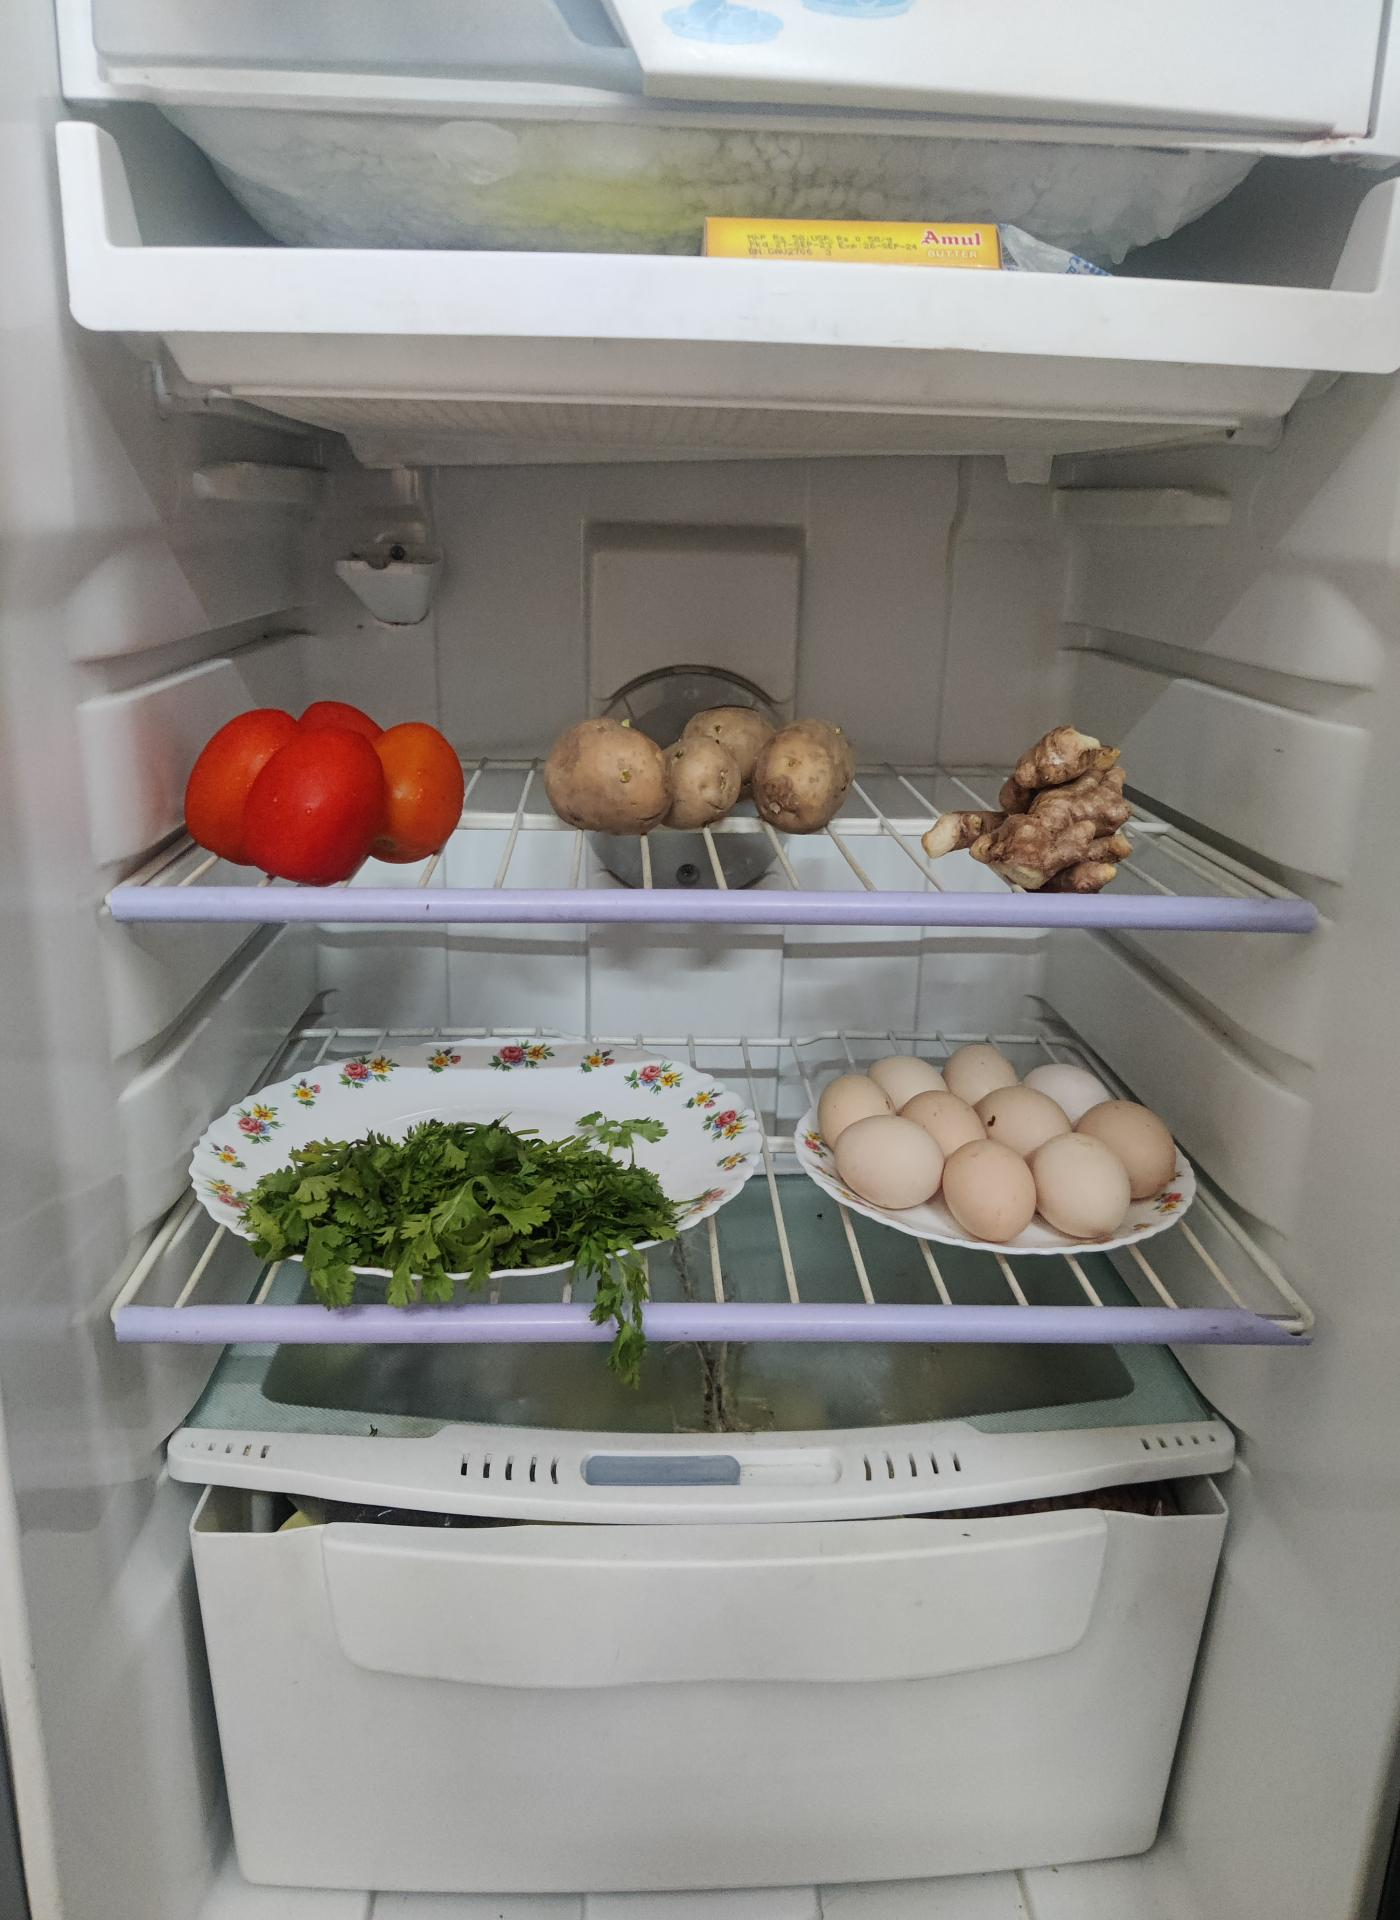bread: (1315, 1674, 1400, 1920)
coriander: (230, 1125, 680, 1306)
egg: (807, 1061, 1176, 1264)
ginger: (938, 726, 1138, 891)
potato: (543, 710, 856, 839)
tomato: (189, 705, 470, 887)
